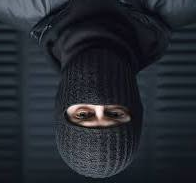terrorist: (3, 5, 193, 181)
